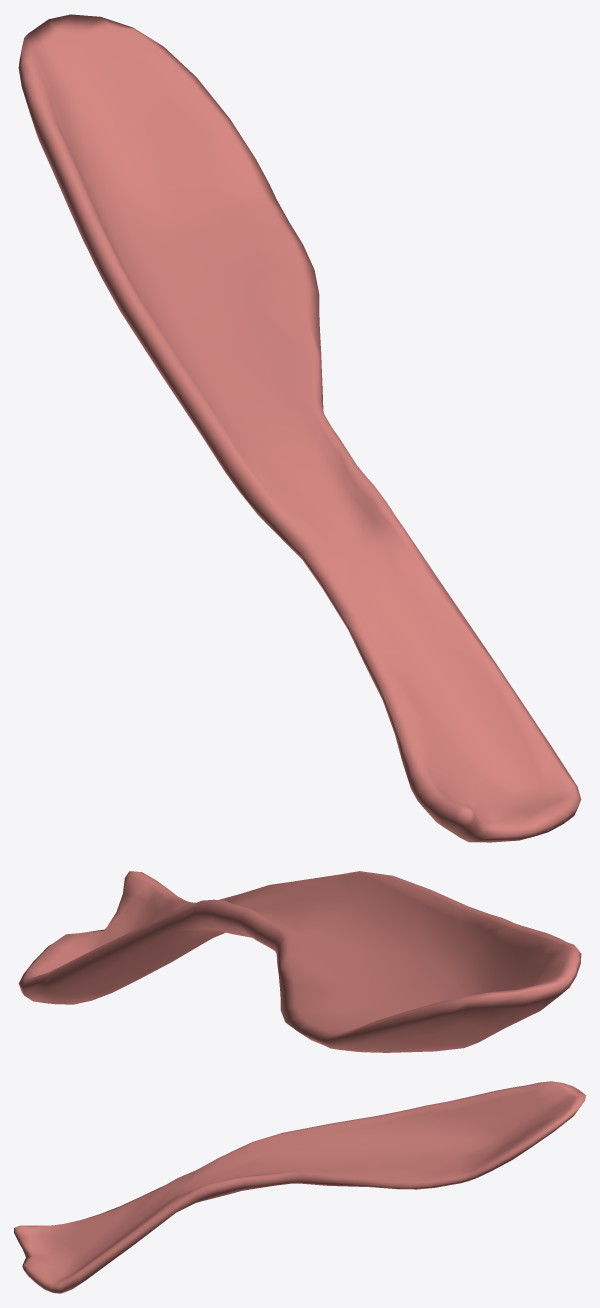
3 renders of one model, top to bottom at view 1: azimuth 30°, elevation 25°; view 2: azimuth 210°, elevation 25°; view 3: azimuth 270°, elevation 25°, orthographic. The views are drawn at different scales.
Parts seen in each view (by area): view 1: ZA_0cc25a01cbd32e1e; view 2: ZA_0cc25a01cbd32e1e; view 3: ZA_0cc25a01cbd32e1e.
Boxes of the visible parts, <box> form: ZA_0cc25a01cbd32e1e: <box>18,14,581,842</box>; ZA_0cc25a01cbd32e1e: <box>18,871,581,1052</box>; ZA_0cc25a01cbd32e1e: <box>14,1081,585,1293</box>.
Size of the model in its own units: 0.00622 by 0.00876 by 0.0224.
